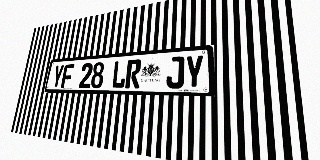2: (79, 63, 93, 88)
8: (90, 62, 105, 88)
F: (61, 64, 74, 88)
J: (166, 56, 184, 89)
L: (111, 60, 127, 88)
R: (125, 59, 142, 88)
Y: (184, 55, 204, 89), (51, 65, 64, 88)
